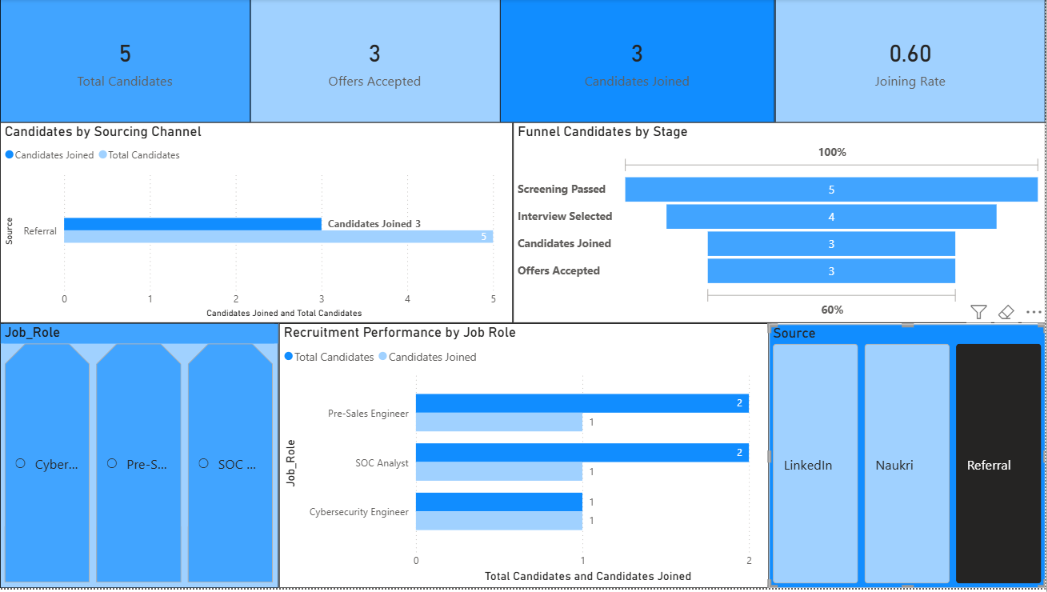

This screenshot's page, from the dashboard's own definition file:
{"tool":"powerbi","page":{"name":"Page 1","canvas":[1280,720],"ordinal":0},"visuals":[{"type":"card","fields":{"Values":["Table1.Candidates Joined"]},"box":[612,0,336.2,150.9],"z":0},{"type":"card","fields":{"Values":["Table1.Offers Accepted"]},"box":[306,0,306,150.9],"z":1},{"type":"card","fields":{"Values":["Table1.Total Candidates"]},"box":[0,0,306,150.9],"z":2},{"type":"card","fields":{"Values":["Table1.Joining Rate"]},"box":[948.2,0,332.1,150.9],"z":3},{"type":"clusteredBarChart","title":"Candidates by Sourcing Channel","fields":{"Category":["Table1.Source"],"Y":["Table1.Candidates Joined","Table1.Total Candidates"]},"box":[0,150.5,627.4,245.6],"z":4},{"type":"funnel","fields":{"Category":["Recruitment_Stages.Stage"],"Y":["Recruitment_Stages.Funnel Candidates"]},"box":[627.1,150.9,653.2,245.6],"z":5},{"type":"clusteredBarChart","title":"Recruitment Performance by Job Role","fields":{"Category":["Table1.Job_Role"],"Y":["Table1.Total Candidates","Table1.Candidates Joined"]},"box":[340.7,396,599,323.6],"z":6},{"type":"advancedSlicerVisual","fields":{"Values":["Table1.Job_Role"]},"box":[0,396,340.7,323.6],"z":7},{"type":"advancedSlicerVisual","fields":{"Values":["Table1.Source"]},"box":[940,397,340,323],"z":8}]}

Visuals, with their boxes in screenshot pixels (x1, y1, x2, y2), scaled from the page's 1280x720 canvas onto the 1047x592 screenshot:
card - Table1.Candidates Joined: 501/0/776/124
card - Table1.Offers Accepted: 250/0/501/124
card - Table1.Total Candidates: 0/0/250/124
card - Table1.Joining Rate: 776/0/1046/124
"Candidates by Sourcing Channel" clusteredBarChart: 0/124/513/326
funnel - Recruitment_Stages.Stage x Recruitment_Stages.Funnel Candidates: 513/124/1046/326
"Recruitment Performance by Job Role" clusteredBarChart: 279/326/769/591
advancedSlicerVisual - Table1.Job_Role: 0/326/279/591
advancedSlicerVisual - Table1.Source: 769/326/1046/591
